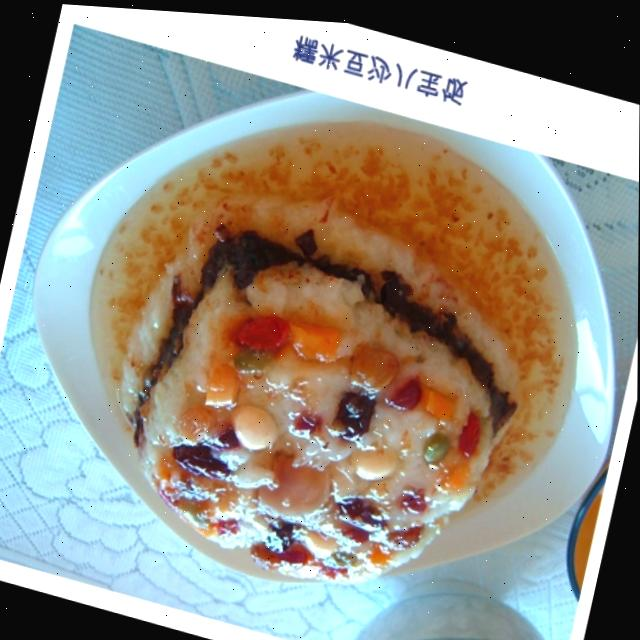米饭主食: (7, 39, 640, 640)
